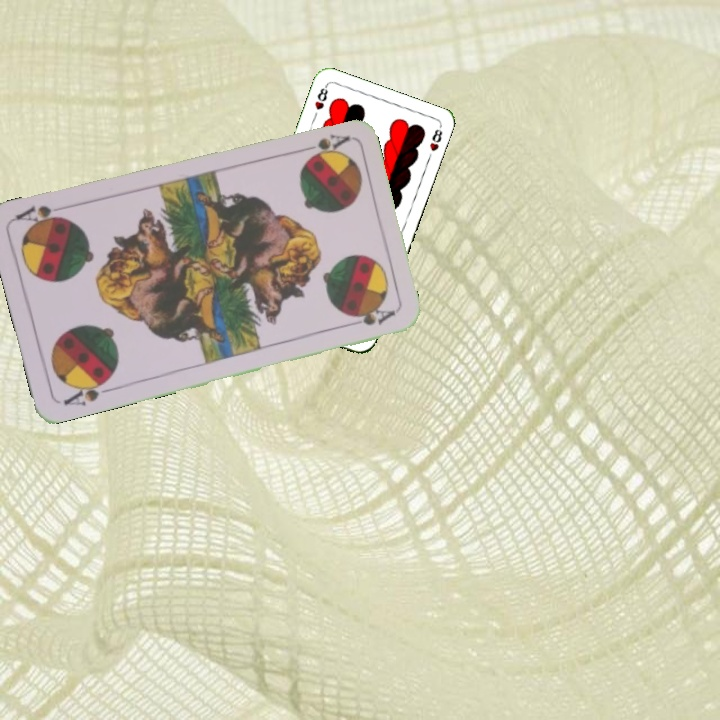H8: (311, 81, 330, 113)
SA: (59, 373, 116, 409), (293, 130, 351, 158)
